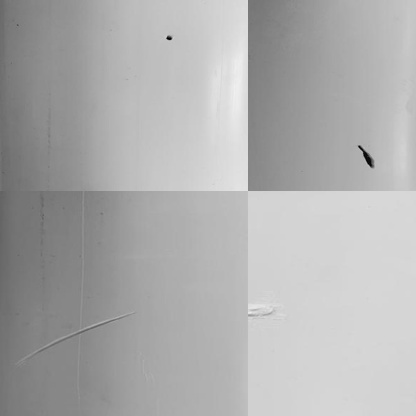kongdong: (355, 146, 379, 168), (166, 32, 175, 42)
sunshang: (14, 313, 134, 363), (244, 301, 283, 323)
